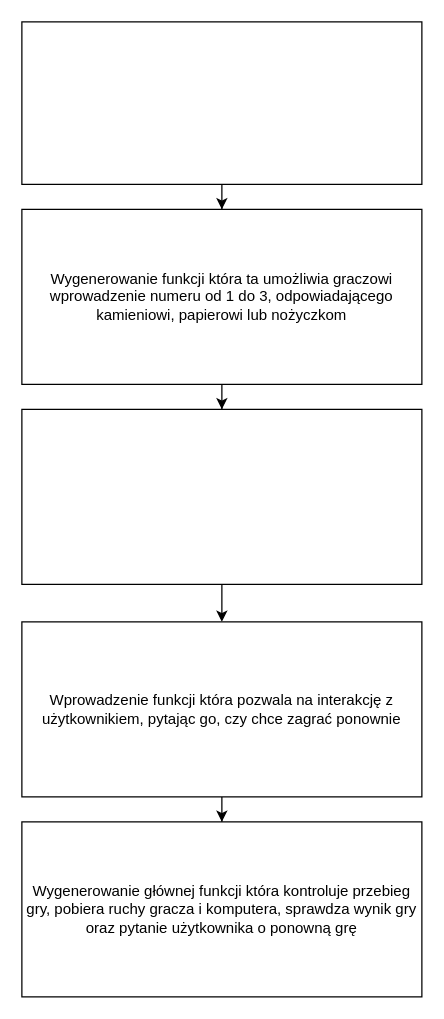
Image size: 444x1019. Some labels were removed from this diagram. The shapes that lost their labels are listed below. From the top down, each one's centre as x and y in pixels, then its label:
At (221,102): "Wygenerowanie funkcji która będzie generować losowe liczby w zakresie od 1 do 3".
At (221,496): "Wprowadzenie funkcji która będzie określać zwycięzcę gry".
